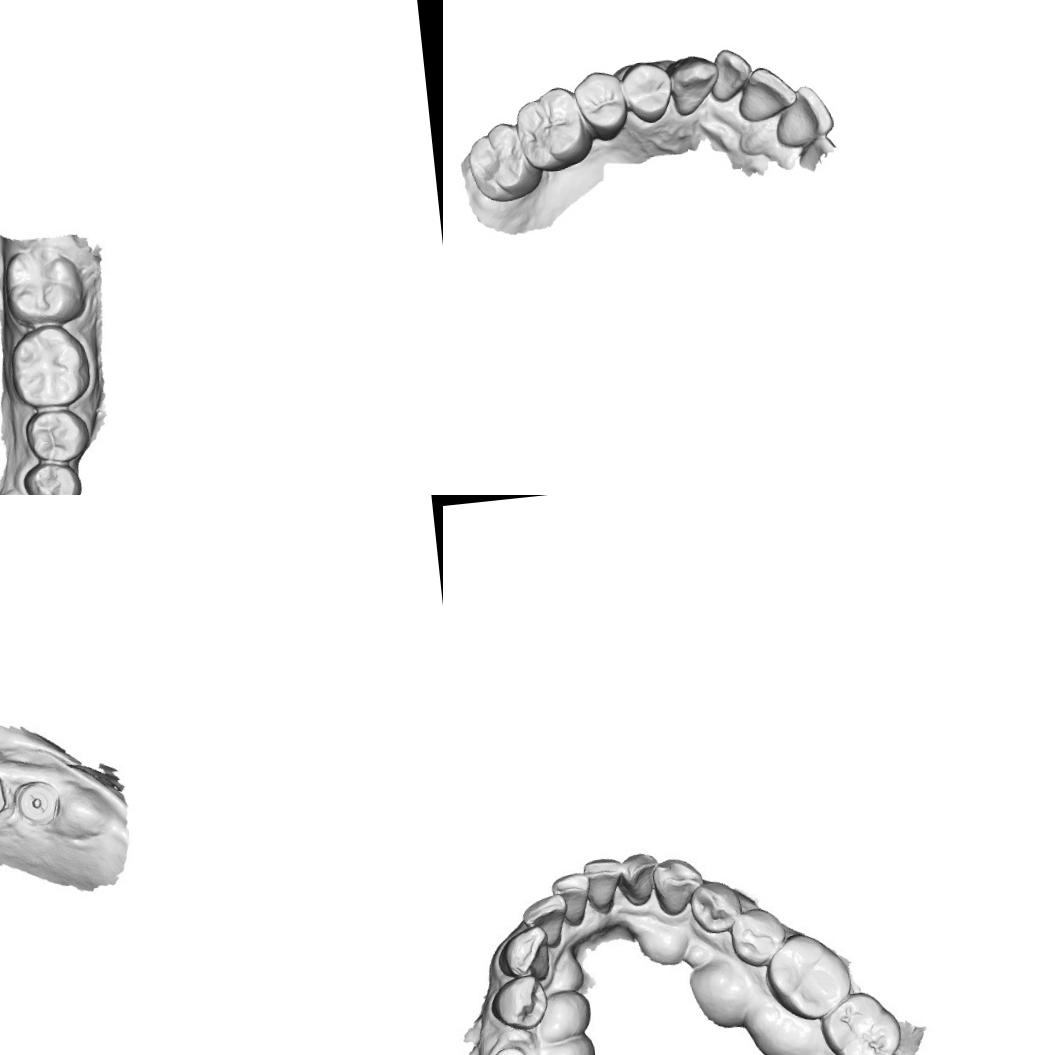canine: (666, 52, 724, 119), (650, 853, 706, 922), (498, 922, 555, 984)
implant: (485, 1040, 531, 1055)
implant_minus: (14, 775, 57, 823)
incisor: (769, 80, 837, 151), (734, 62, 802, 126), (520, 892, 572, 954), (706, 45, 756, 105), (580, 857, 623, 916), (620, 846, 659, 910), (552, 870, 592, 928)
molar: (510, 82, 596, 176), (768, 930, 855, 1022), (0, 239, 88, 329), (462, 118, 545, 206), (8, 320, 88, 404), (826, 994, 901, 1055)
premolar: (570, 67, 630, 145), (724, 905, 788, 971), (488, 970, 554, 1033), (22, 404, 88, 466), (620, 57, 676, 128), (21, 455, 87, 495), (692, 882, 740, 935)
